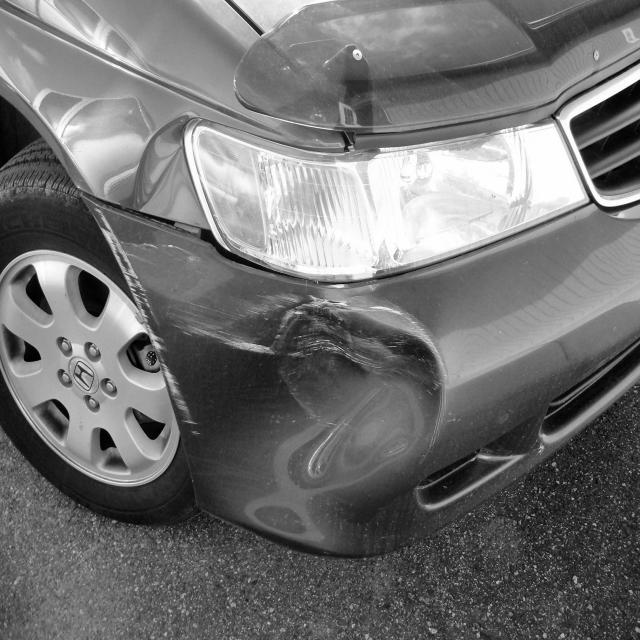dent: (266, 295, 454, 463), (128, 113, 210, 228)
misalignment: (81, 189, 292, 278)
scratch: (90, 204, 454, 462)
